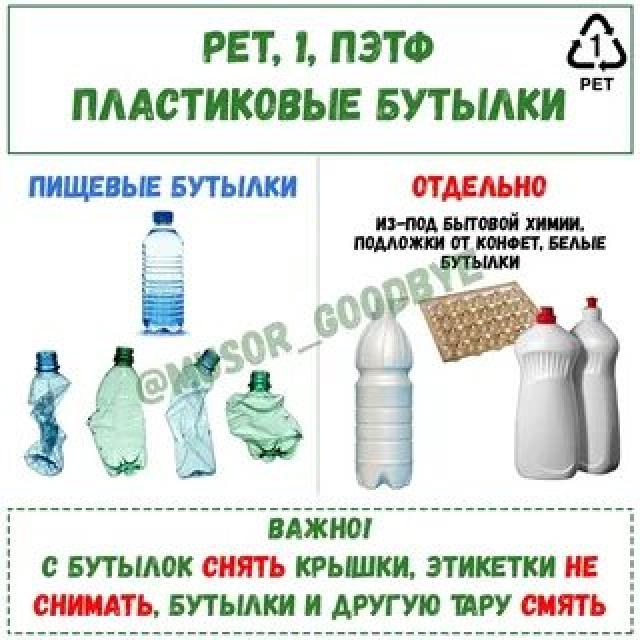blue: (24, 348, 72, 476), (140, 220, 185, 334)
green: (86, 346, 147, 477), (224, 370, 303, 462)
